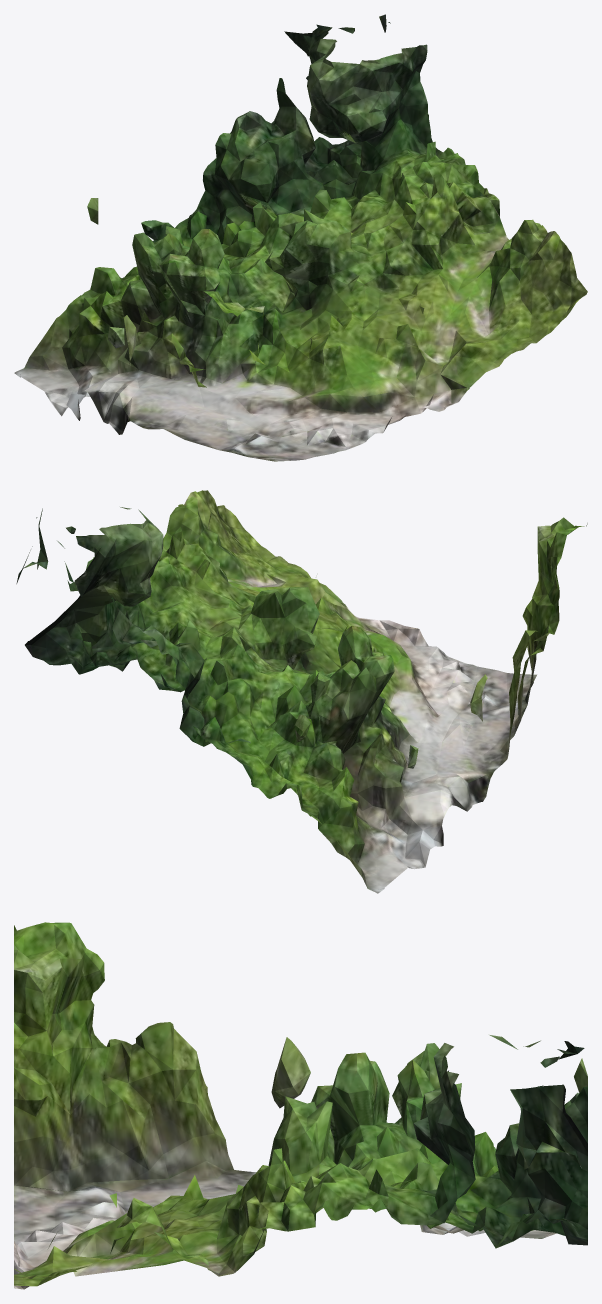
3 renders of one model, top to bottom at view 1: azimuth 30°, elevation 25°; view 2: azimuth 150°, elevation 25°; view 3: azimuth 270°, elevation 25°, orthographic. The views are drawn at different scales.
Bounding box in the file's own units: 26.11 × 19.5 × 26.11.
Materials: 5 (5 with a texture image).
